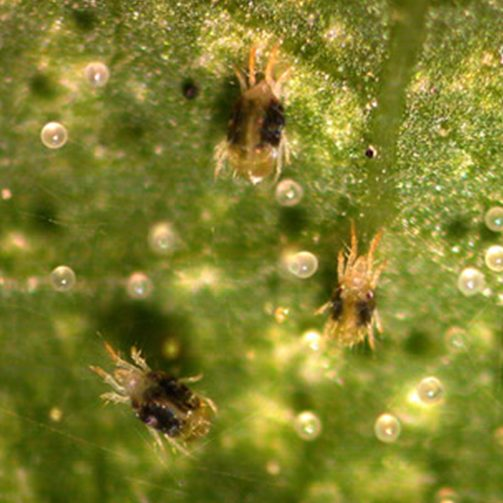Mites: (71, 316, 233, 464), (190, 26, 306, 184), (319, 226, 399, 401)
